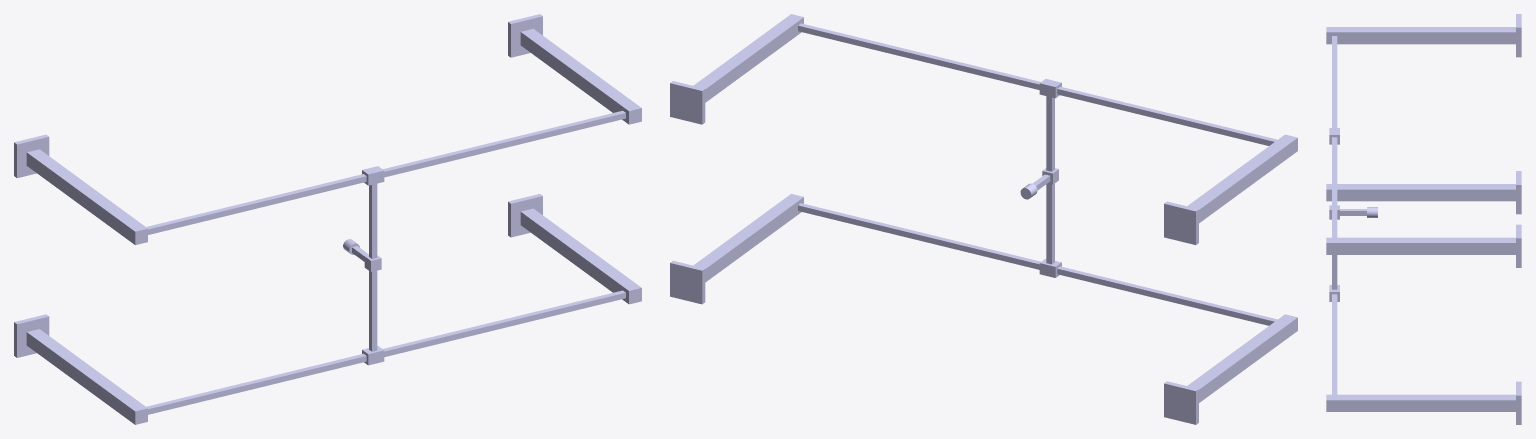
The model's file is manipulator_mesh.obj.
3 renders of one model, left to right at view 1: azimuth 30°, elevation 25°; view 2: azimuth 150°, elevation 25°; view 3: azimuth 270°, elevation 25°, orthographic. The views are drawn at different scales.
Bounding box in the file's own units: 4.9 × 1.9 × 1.8.
